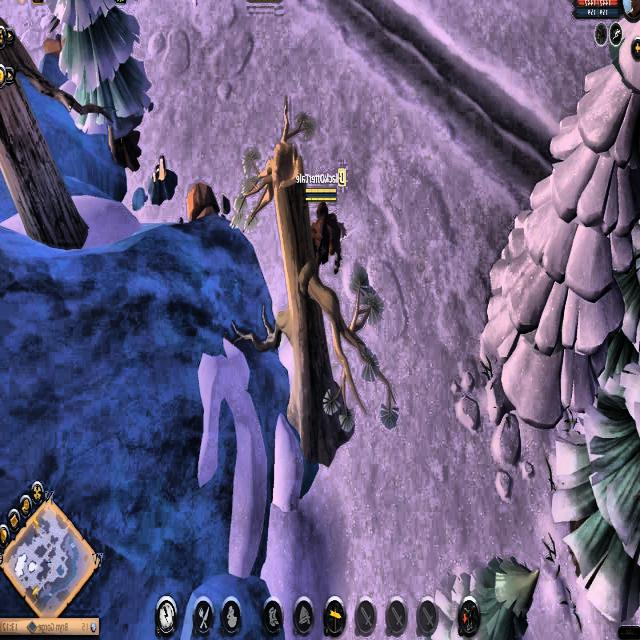copperore: (145, 152, 181, 206)
limestone: (180, 177, 223, 226)
